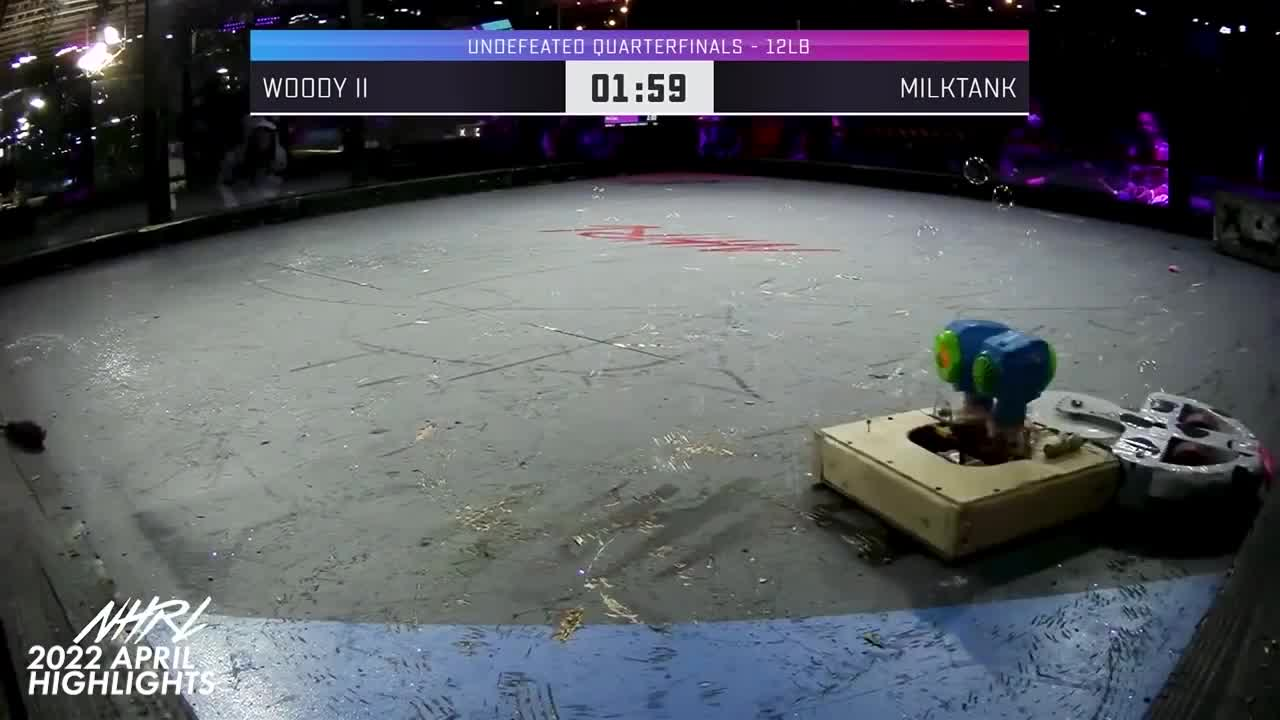combatbot: (811, 325, 1126, 566), (1017, 369, 1273, 556)
debris: (2, 419, 49, 452)
